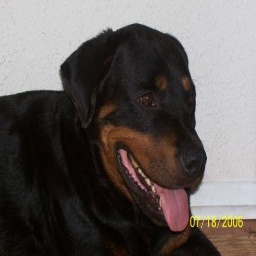dog: (1, 22, 227, 256)
